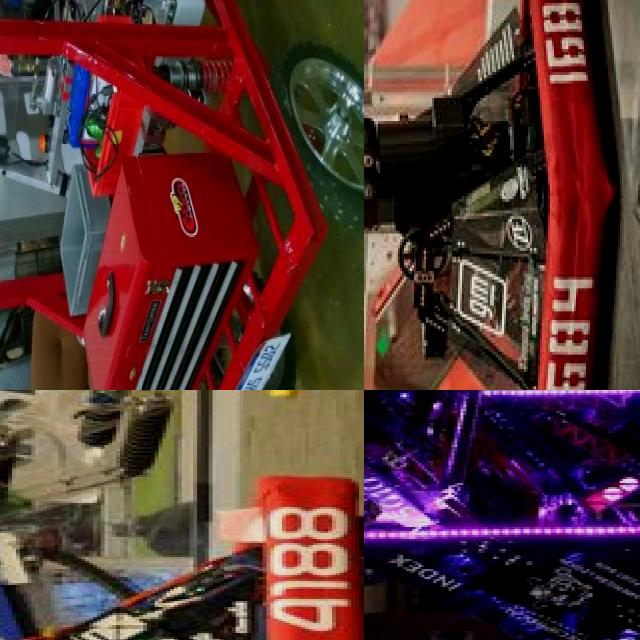FRC-Robots: (364, 0, 608, 390), (364, 390, 640, 640), (0, 451, 364, 640), (0, 0, 204, 213)
